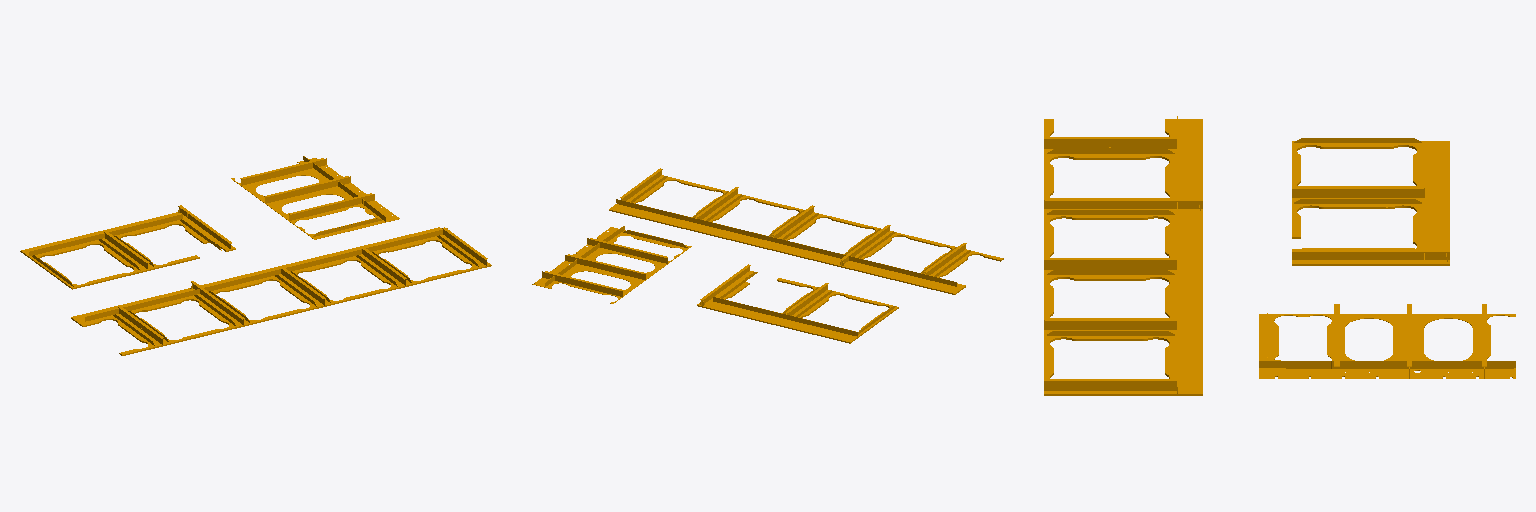
robot.urdf — [number redacted]:
<?xml version="1.0" ?>
<robot name="[number redacted]">
  <link name="201910204483__link_0">
    <inertial>
      <mass value="1"/>
      <origin xyz="0 0 0" rpy="0 0 0"/>
      <inertia ixx="0.166667" ixy="0" ixz="0" iyy="0.166667" iyz="0" izz="0.166667"/>
    </inertial>
    <collision name="201910204483__collision">
      <origin xyz="0 0 0" rpy="0 0 0"/>
      <geometry>
        <mesh filename="meshes/201910204483_s.obj" scale="1 1 1"/>
      </geometry>
    </collision>
    <visual name="201910204483__visual">
      <origin xyz="0 0 0" rpy="0 0 0"/>
      <geometry>
        <mesh filename="meshes/201910204483_s.obj" scale="1 1 1"/>
      </geometry>
    </visual>
  </link>
</robot>

--- Render facts (derived) ---
The picture shows the robot from 3 angles, left to right: view 1: azimuth 30°, elevation 25°; view 2: azimuth 150°, elevation 25°; view 3: azimuth 270°, elevation 25°; orthographic projection.
Model [number redacted] with 1 links and 0 joints (none), rooted at 201910204483__link_0, posed every joint at zero.
Visible links, largest first — view 1: 201910204483__link_0; view 2: 201910204483__link_0; view 3: 201910204483__link_0.
Boxes of the visible links, x1,y1,x2,y2 form: 201910204483__link_0: (20,156,491,355); 201910204483__link_0: (532,168,1003,343); 201910204483__link_0: (1044,116,1515,395).
Bounding box of the posed robot: 11.67 × 8.43 × 0.25 m (x, y, z).
1 mesh visuals loaded from 1 distinct referenced files (1 OBJ).
